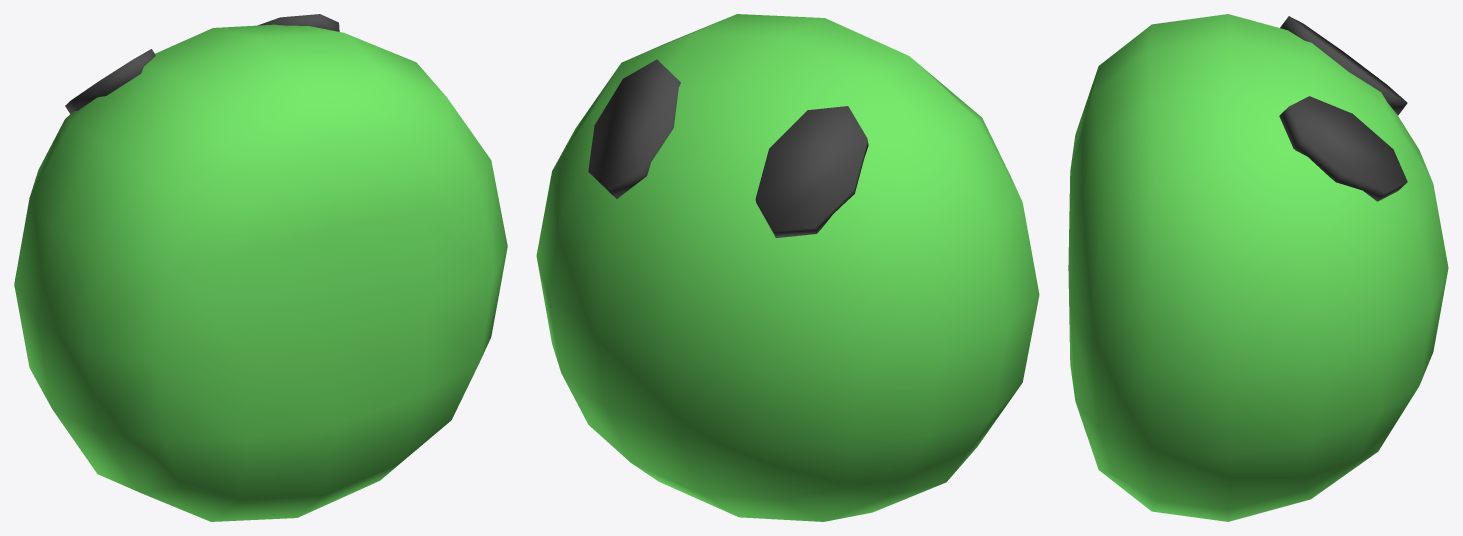
Rendered from slime.fbx.
3 views of the same model, side by side, from view 1: azimuth 30°, elevation 25°; view 2: azimuth 150°, elevation 25°; view 3: azimuth 270°, elevation 25° (orthographic). The views are drawn at different scales.
Visible parts, largest first — view 1: Cube.001; view 2: Cube.001; view 3: Cube.001.
Part boxes in pixels (x1,y1,x2,y2): Cube.001: (14,14,507,521); Cube.001: (536,14,1039,521); Cube.001: (1068,14,1448,521).
Bounding box in the file's own units: 154 × 154 × 117.
